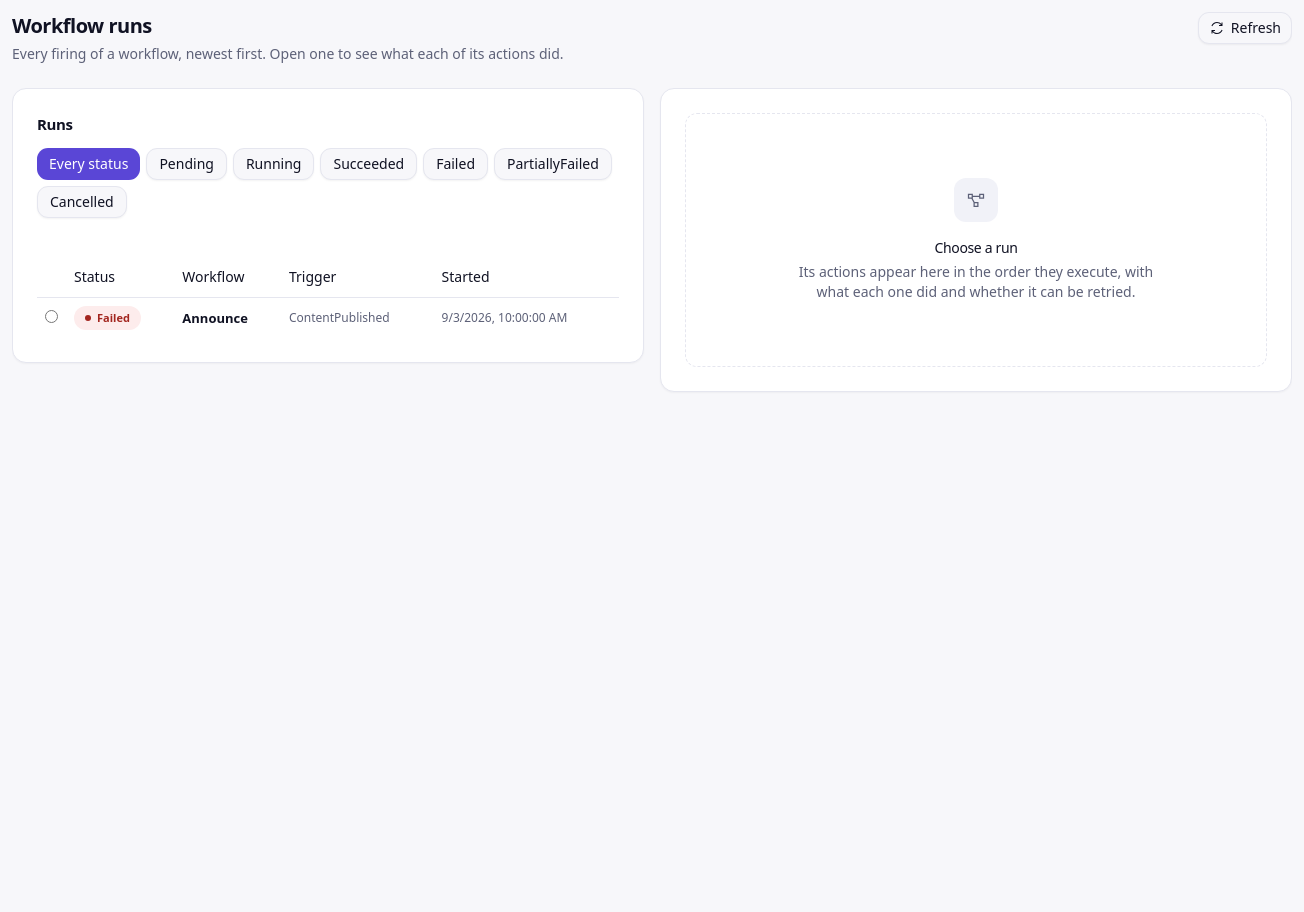
Scenario: the attempt history in the panel › says how many older tries were dropped
Click the radio button named "Announce" at (52, 316), box [45,310,58,323]
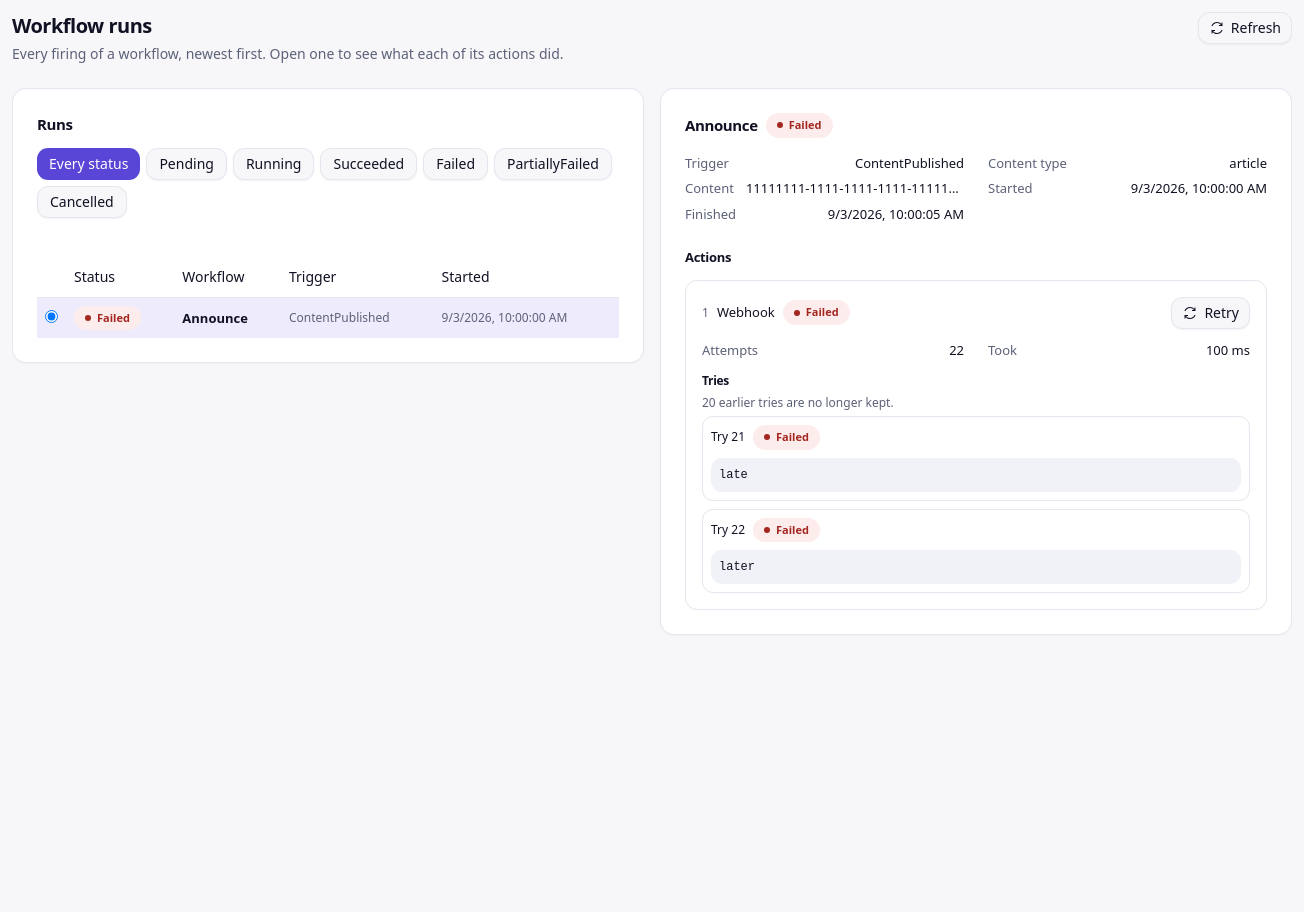
Check: the text "20 earlier tries are no longer kept." is shown, box [702,394,894,411]
